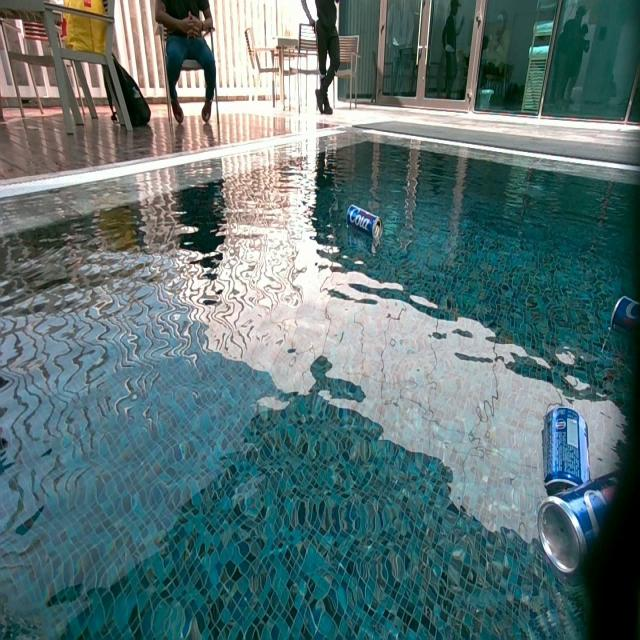Cans: (540, 470, 626, 583), (543, 404, 588, 496), (347, 204, 382, 240), (610, 296, 640, 337)
